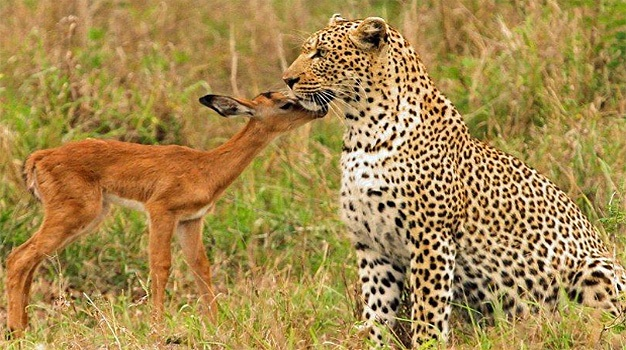Deer: (1, 85, 332, 339)
leopard: (283, 9, 621, 350)
